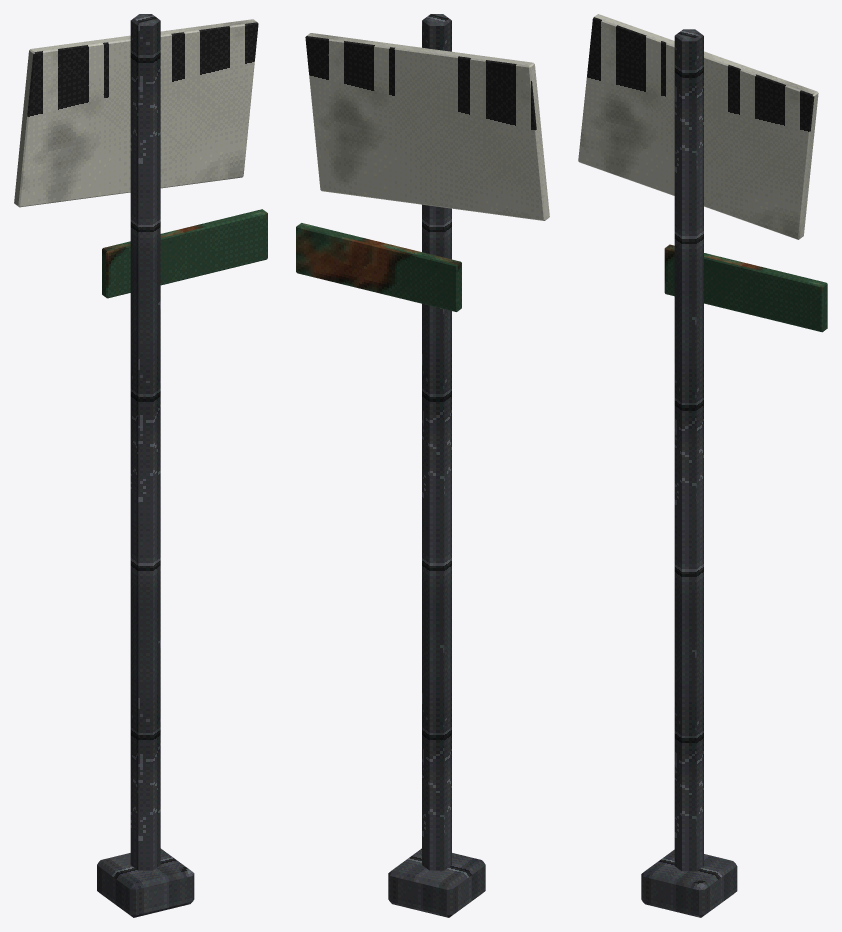
The model's file is prop_street_sign.glb.
3 renders of one model, left to right at view 1: azimuth 30°, elevation 25°; view 2: azimuth 150°, elevation 25°; view 3: azimuth 330°, elevation 25°, orthographic.
Parts seen in each view (by area): view 1: prop_street_sign_mesh; view 2: prop_street_sign_mesh; view 3: prop_street_sign_mesh.
Boxes of the visible parts, x1,y1,x2,y2 form: prop_street_sign_mesh: [14, 14, 267, 917]; prop_street_sign_mesh: [296, 14, 549, 917]; prop_street_sign_mesh: [578, 14, 827, 917].
Size of the model in its own units: 0.7712 by 2.6 by 0.2.
3 materials, 3 textured.
